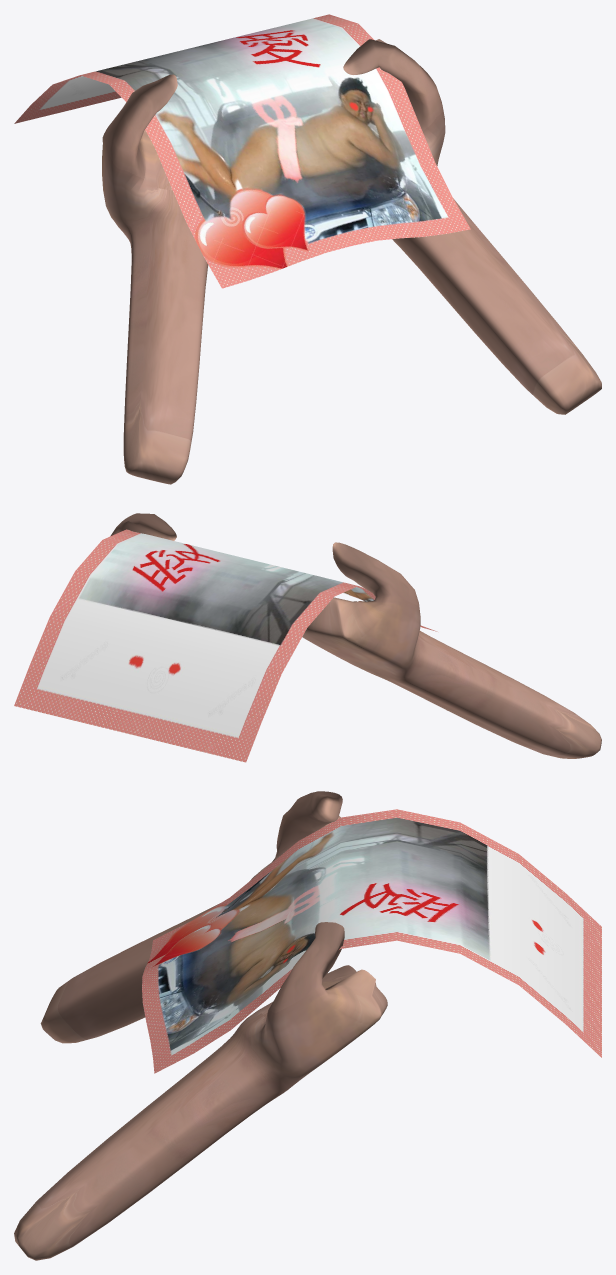
The model's file is hand.fbx.
3 renders of one model, top to bottom at view 1: azimuth 30°, elevation 25°; view 2: azimuth 150°, elevation 25°; view 3: azimuth 270°, elevation 25°, orthographic. The views are drawn at different scales.
Parts seen in each view (by area): view 1: pPlane1, pCube1, pCube2; view 2: pPlane1, pCube1, pCube2; view 3: pPlane1, pCube2, pCube1.
Part boxes in pixels (x1,y1,x2,y2): pPlane1: [14, 14, 470, 288]; pCube1: [102, 74, 208, 484]; pCube2: [343, 39, 601, 414]; pPlane1: [14, 529, 437, 762]; pCube1: [302, 542, 601, 758]; pCube2: [110, 513, 176, 540]; pPlane1: [142, 809, 601, 1073]; pCube2: [14, 922, 387, 1260]; pCube1: [40, 791, 342, 1043].
Bounding box in the file's own units: 9.1 × 5.76 × 9.41.
Materials: 2 (2 with a texture image).
